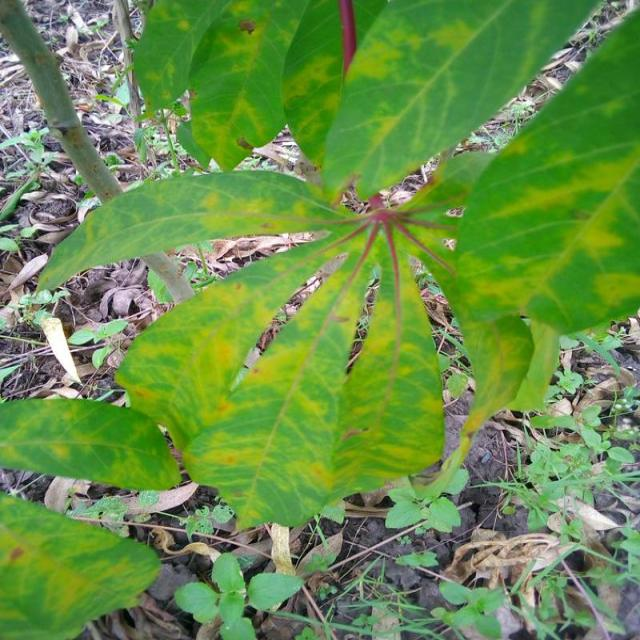cassava leaf: (17, 0, 638, 532), (114, 212, 447, 532), (319, 0, 605, 205), (0, 487, 162, 638), (0, 394, 182, 492)
